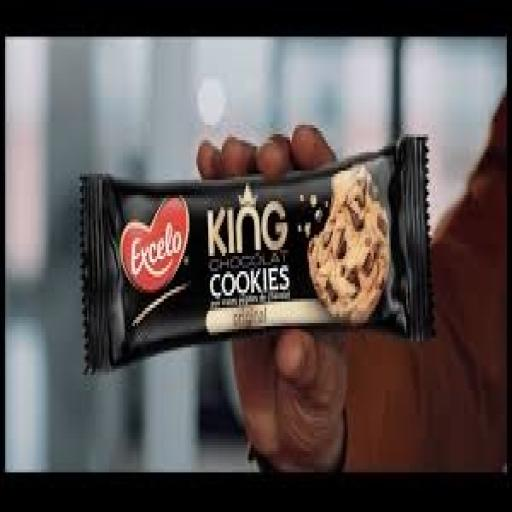king-cooking: (63, 96, 466, 420)
